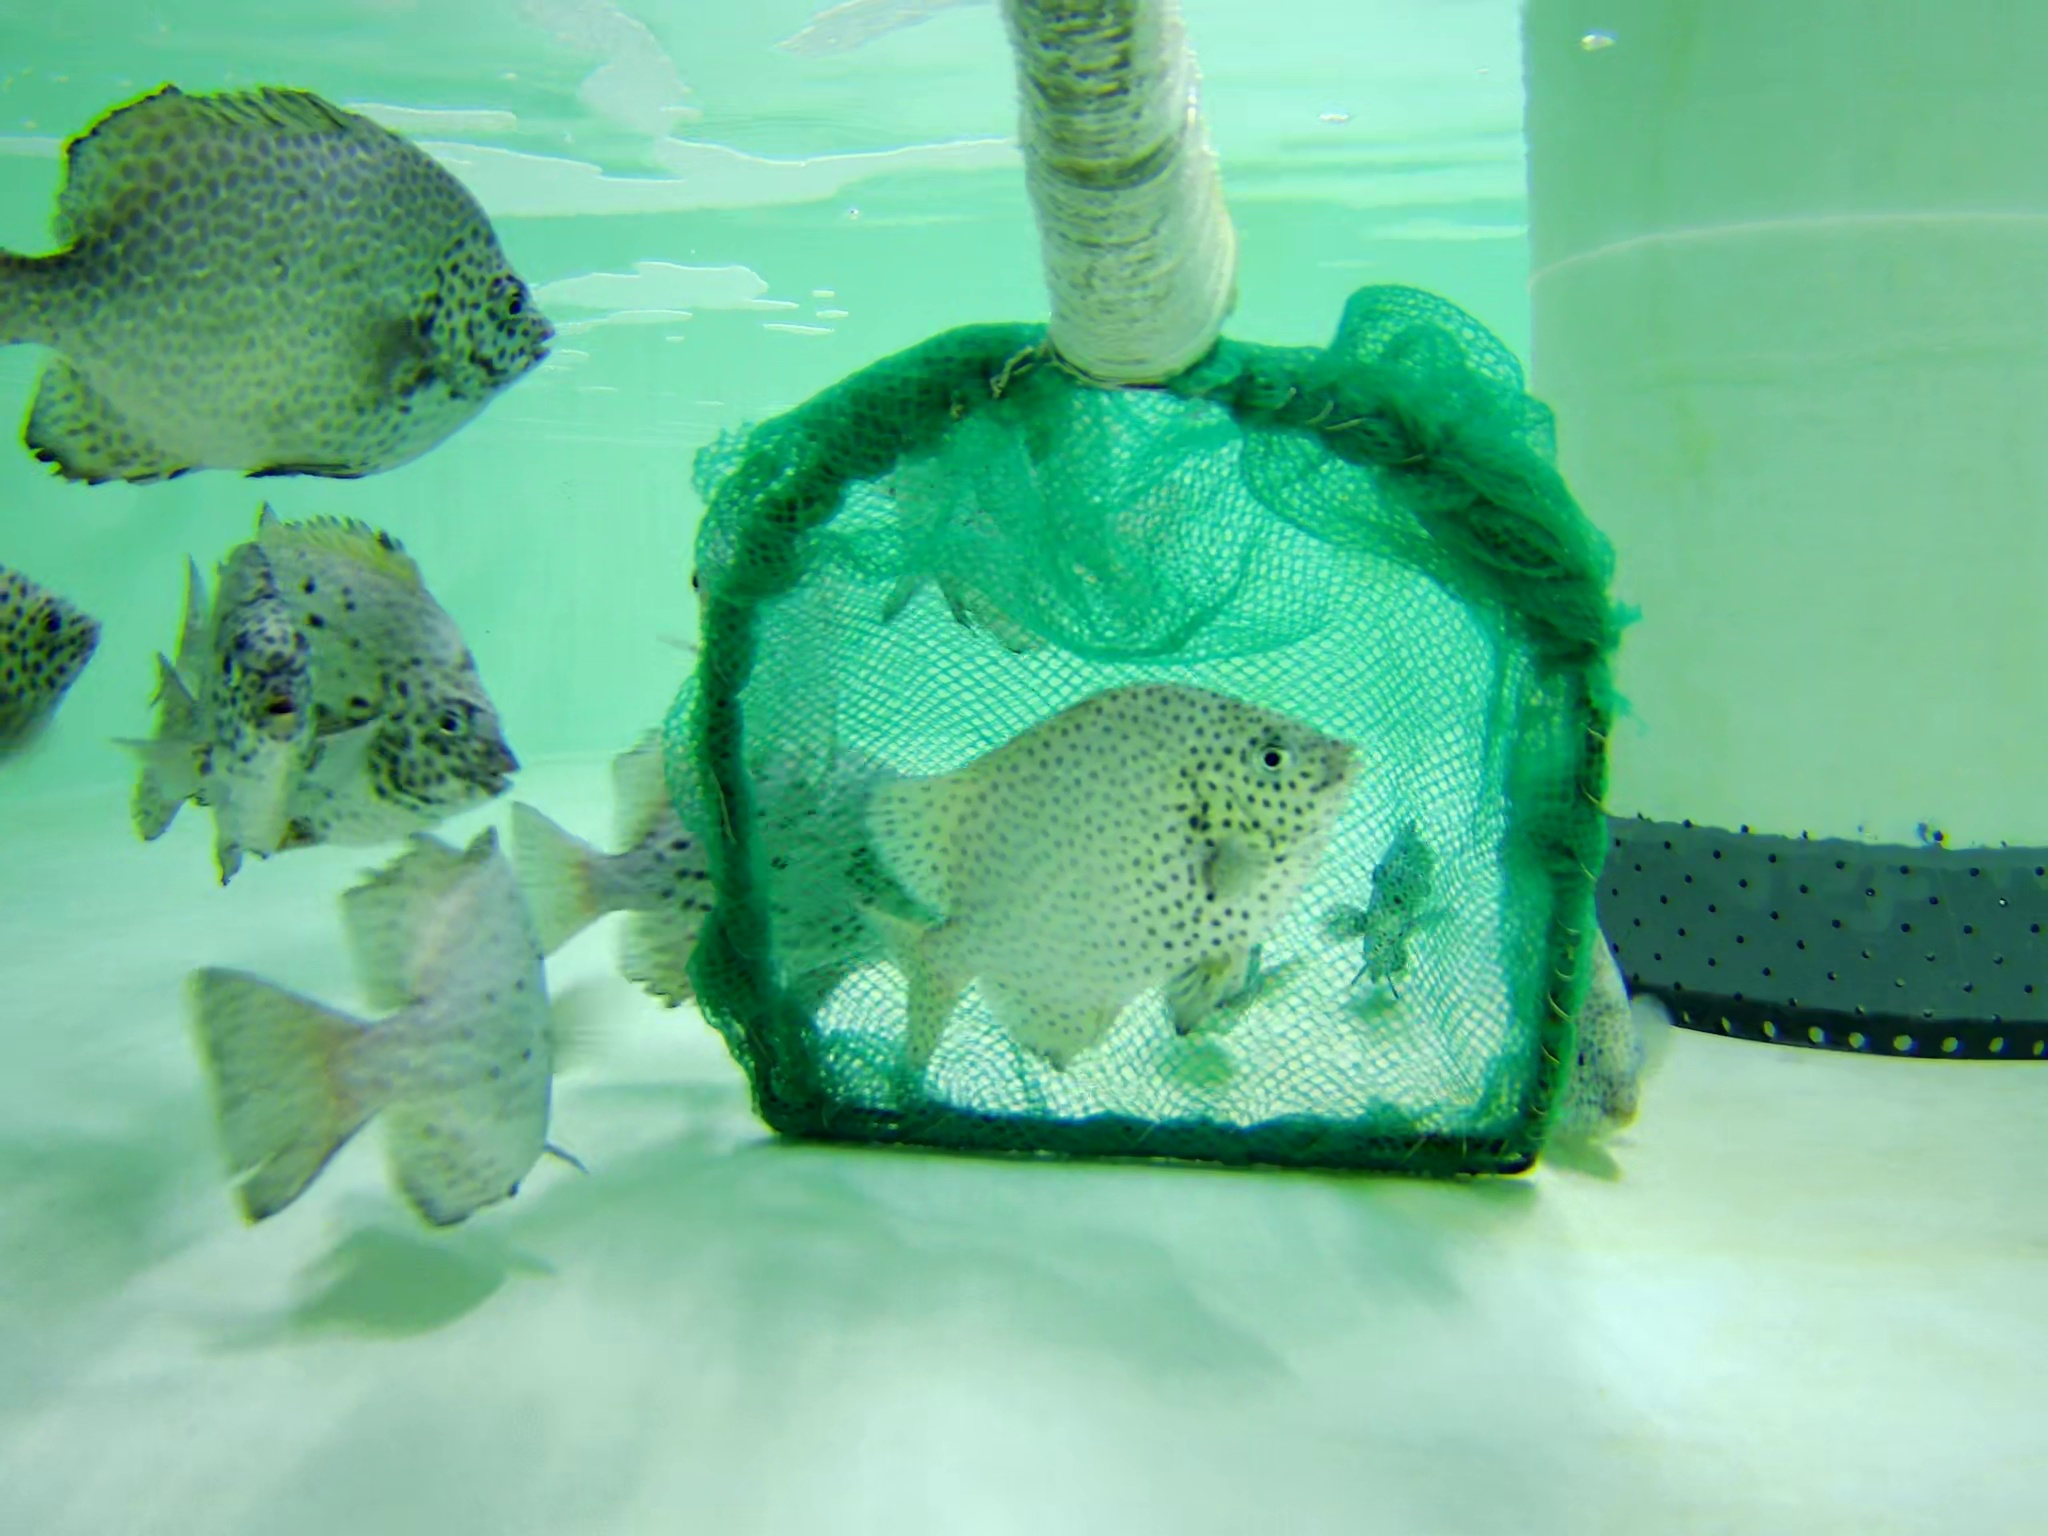fish: (2, 100, 550, 500), (866, 687, 1366, 1071), (158, 836, 574, 1233), (485, 687, 948, 1016), (140, 500, 498, 849), (161, 558, 311, 863), (1324, 805, 1466, 1010), (2, 557, 113, 742)
